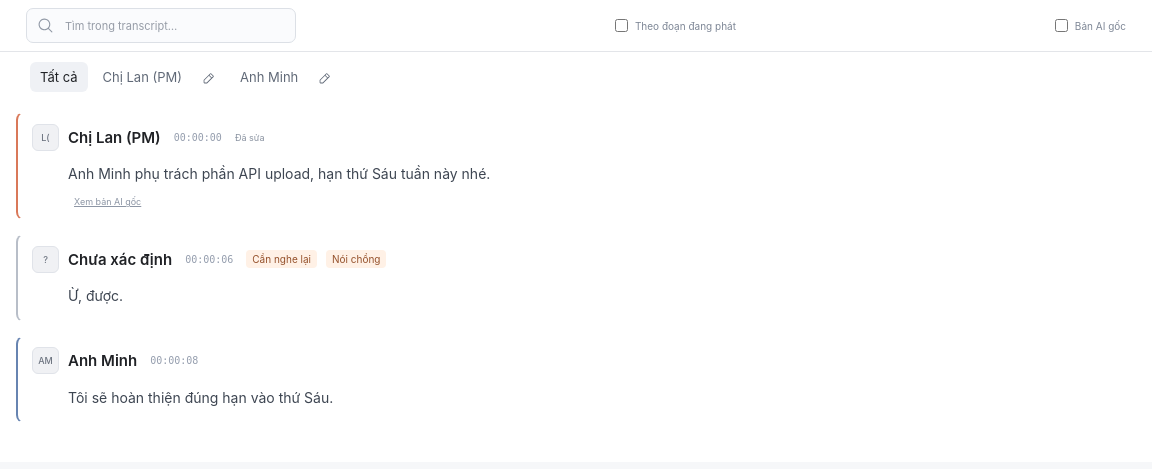
FE-11 rename speaker › shows duplicate-name error beside the input
Click the button named "Đổi tên Chị Lan (PM)": click(208, 77) [192, 62, 225, 92]
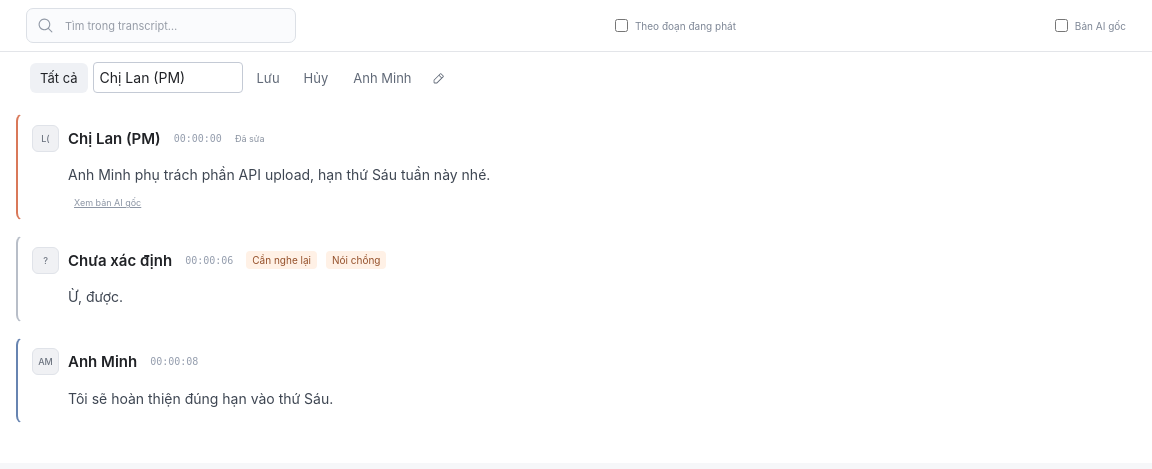
Replace the text in the field named "Tên mới của Chị Lan (PM)" with "Anh Minh": (168, 78) [92, 62, 242, 93]
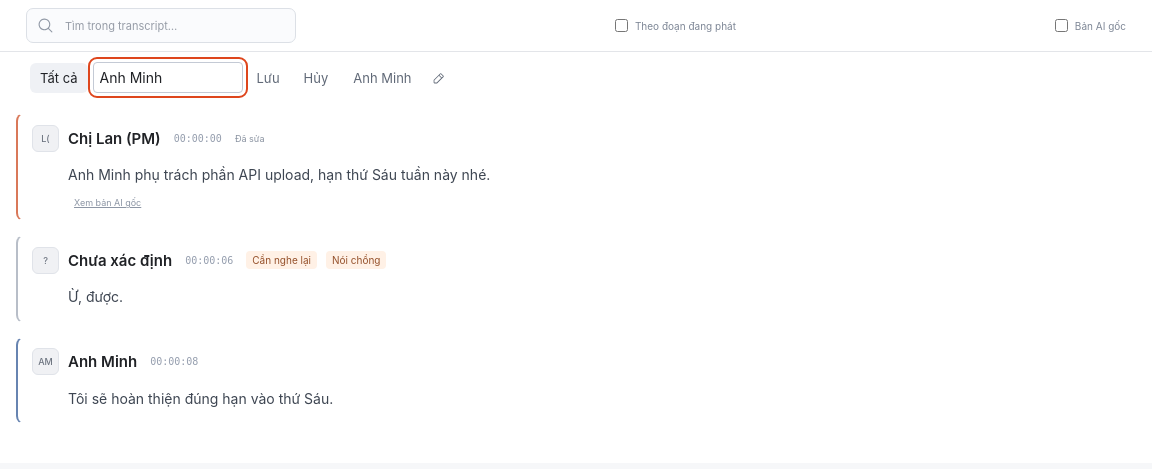
Click the button "Lưu": click(268, 78) [246, 62, 290, 92]
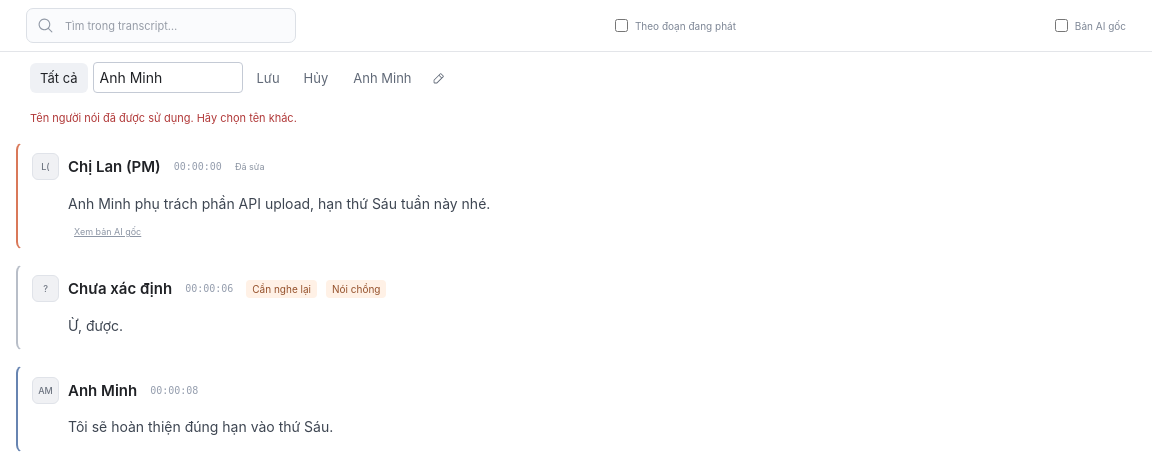
Now the message shows "đã được sử dụng", box [30, 111, 297, 125]
